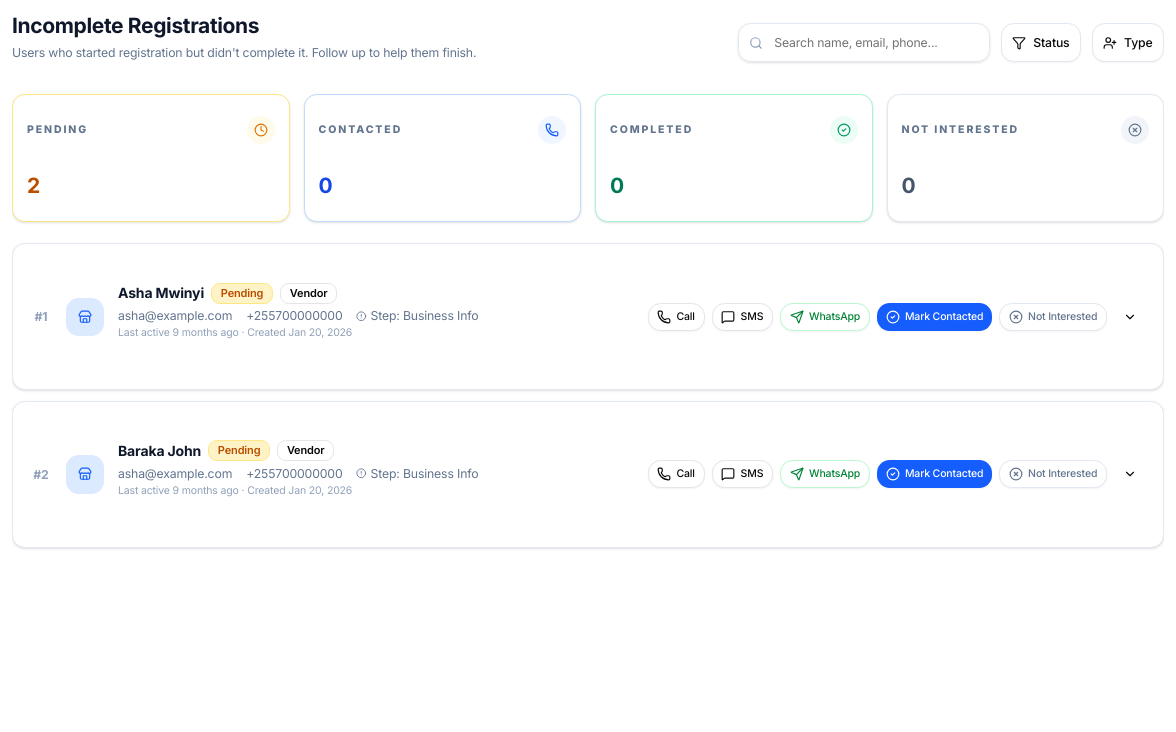
it: IncompleteRegistrationsTab › filters by the typed search query
Type "Baraka" into the field with placeholder "Search name, email, phone...".
click(864, 43); type("Baraka")  # box [738,23,990,62]
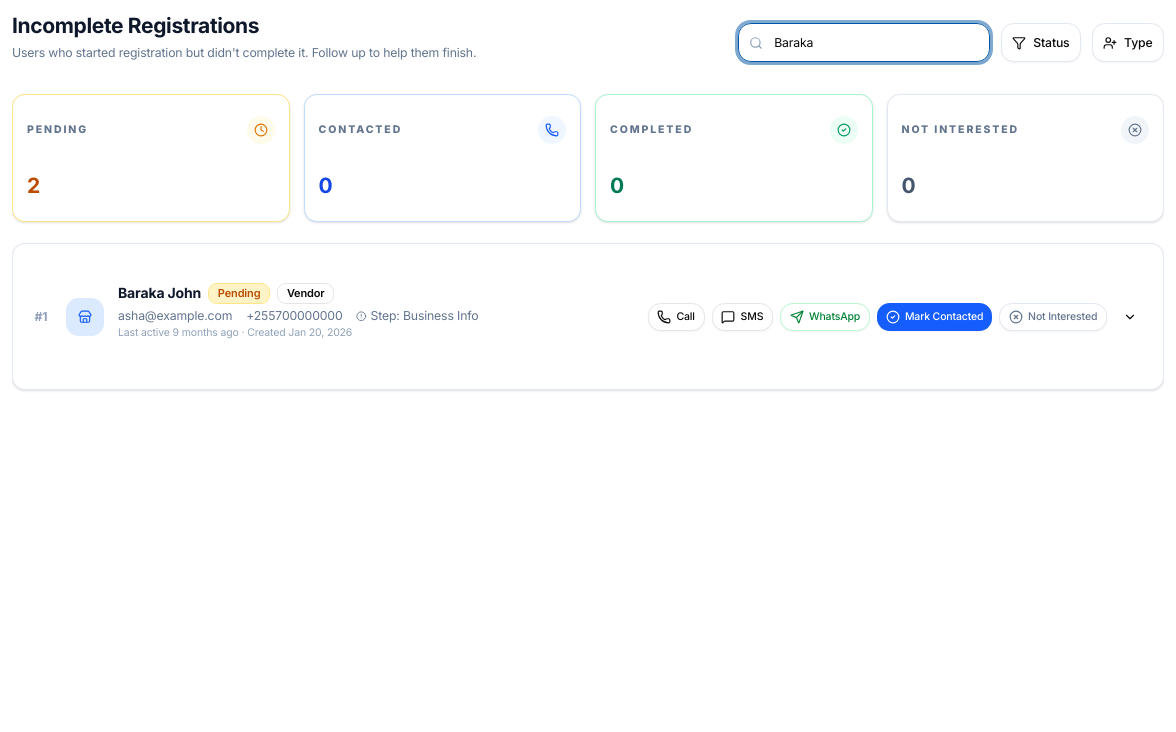
Expected: the text "Baraka John" is shown, [118,283,201,303]
Expected: the text "Asha Mwinyi" is gone
